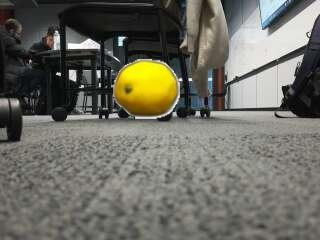lemon: (114, 62, 178, 116)
